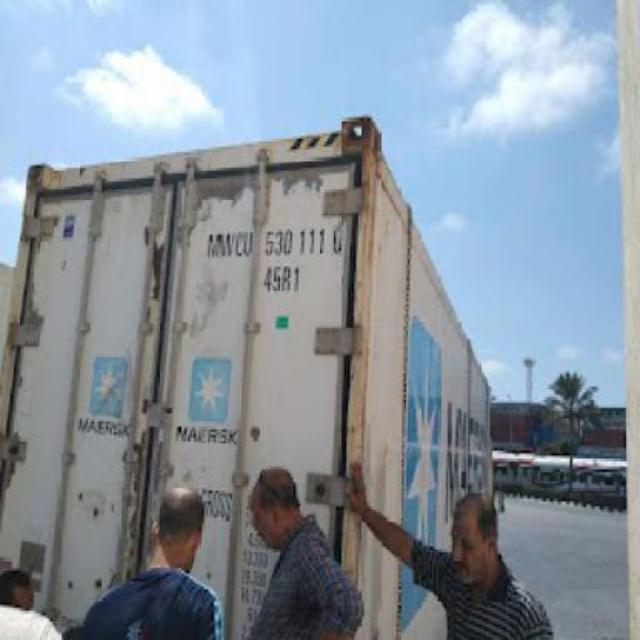0: (332, 224, 346, 256), (284, 228, 294, 256)
1: (316, 224, 328, 256), (298, 228, 308, 256), (308, 228, 316, 256)
3: (274, 228, 284, 256)
5: (264, 228, 276, 256)
C: (236, 226, 246, 258)
M: (206, 230, 222, 258)
U: (244, 226, 254, 262)
W: (220, 230, 236, 258)
